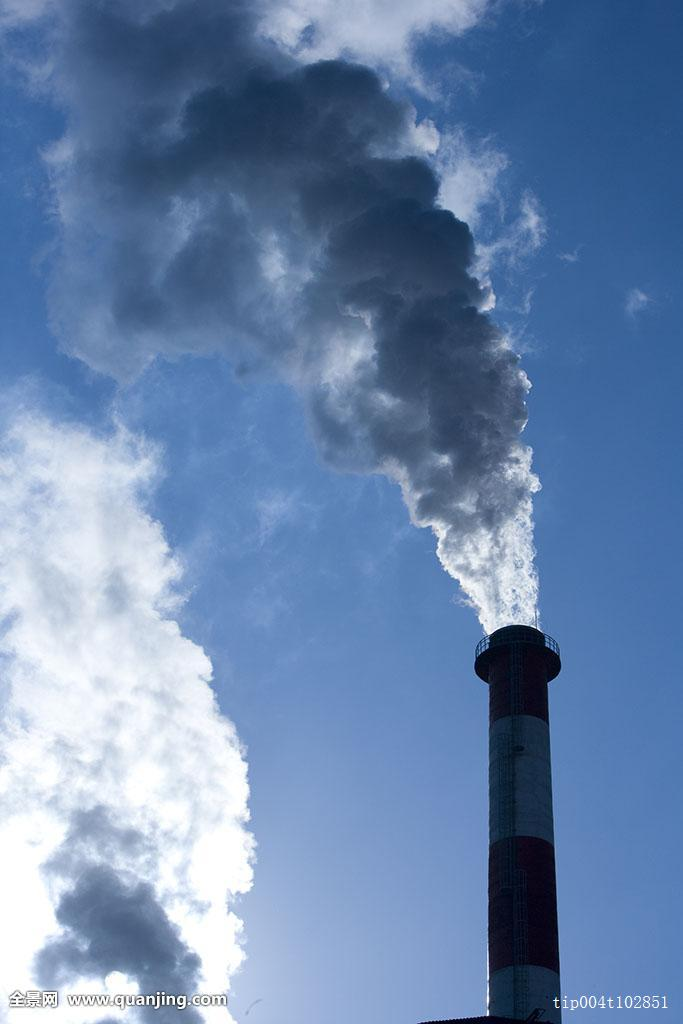dust: (147, 94, 575, 697)
